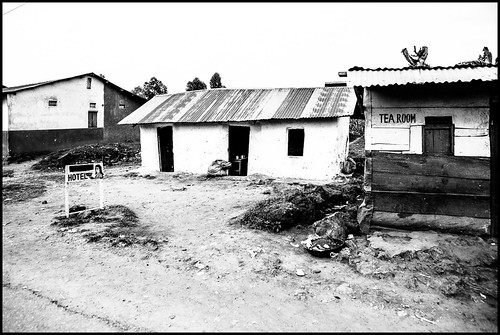building: (139, 84, 354, 191), (365, 72, 493, 231), (5, 77, 140, 150)
sign: (61, 164, 108, 198)
sky: (1, 5, 495, 88)
